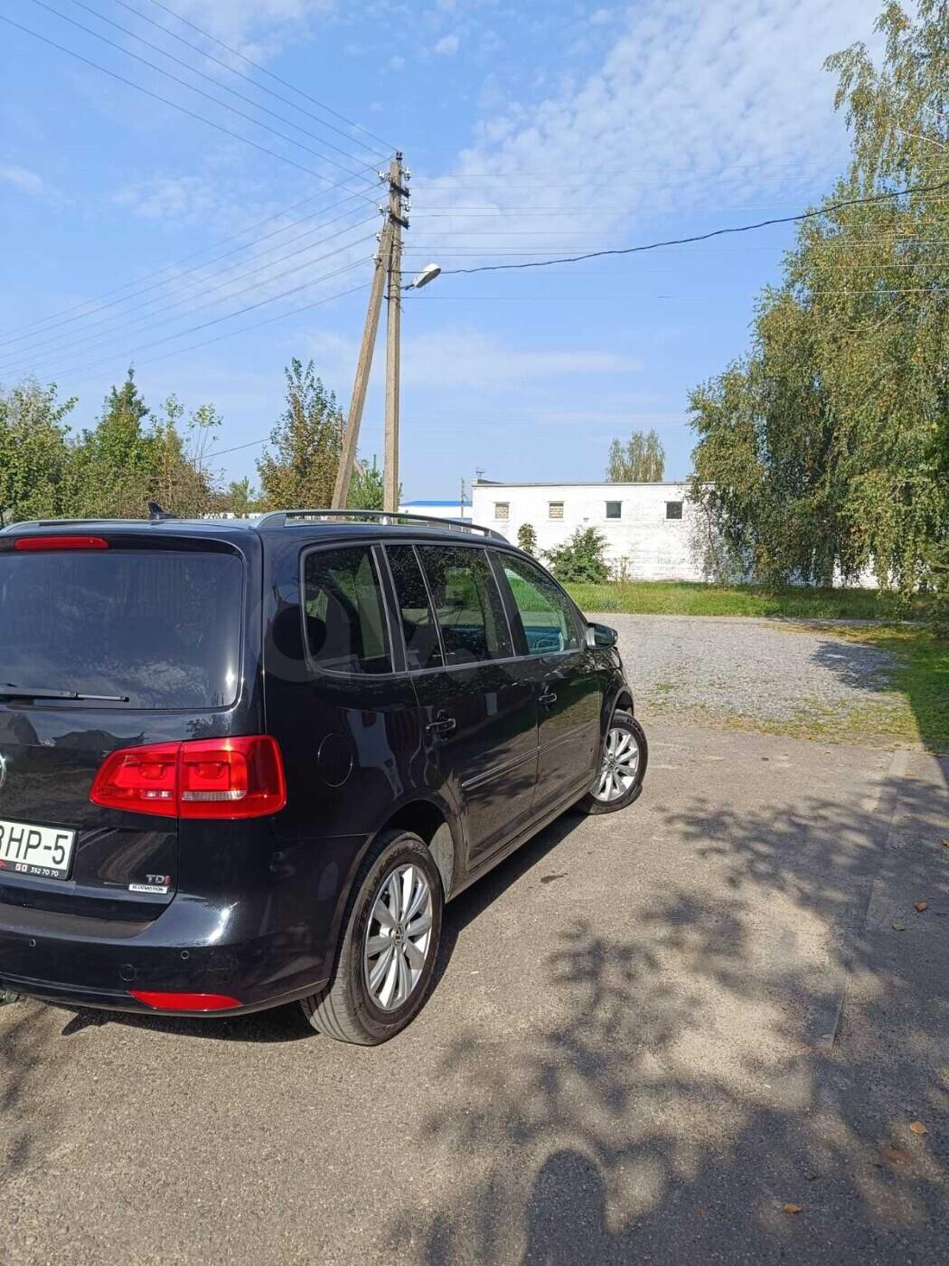Touran_2010-2015: (0, 503, 649, 1047)
